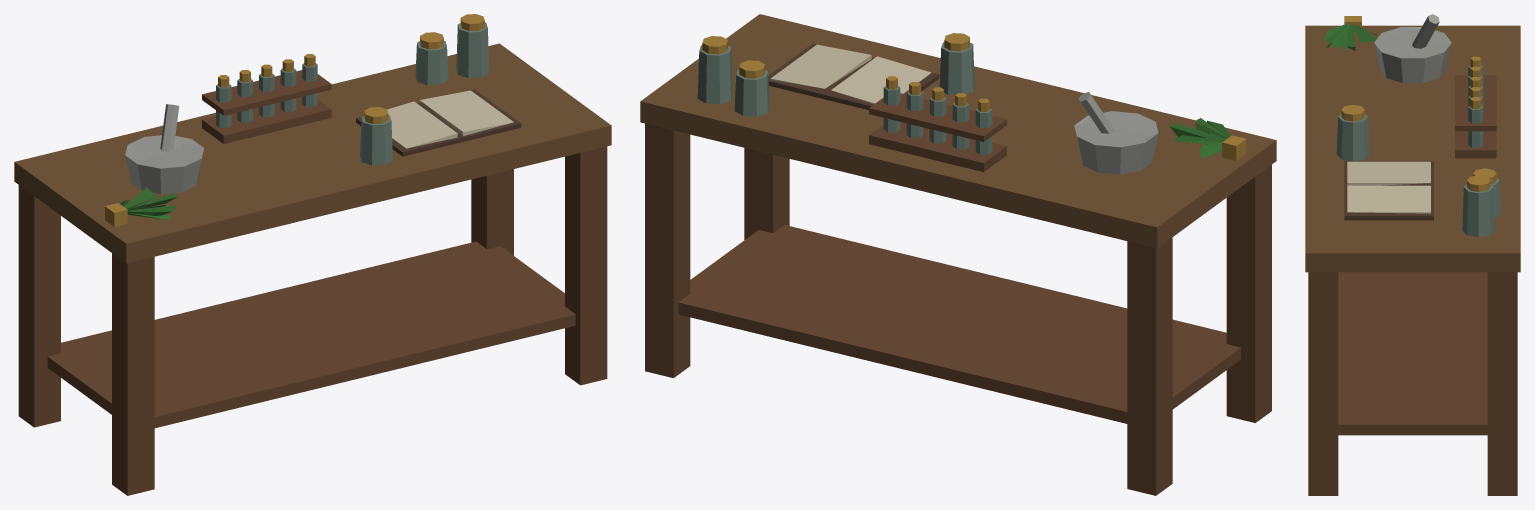
Rendered from ApothecaryBench.fbx.
3 views of the same model, side by side, from view 1: azimuth 30°, elevation 25°; view 2: azimuth 150°, elevation 25°; view 3: azimuth 270°, elevation 25° (orthographic). The views are drawn at different scales.
Visible parts, largest first — view 1: ApothecaryBench; view 2: ApothecaryBench; view 3: ApothecaryBench.
Boxes of the visible parts, x1,y1,x2,y2 form: ApothecaryBench: (14,14,611,495); ApothecaryBench: (640,14,1276,495); ApothecaryBench: (1305,14,1520,495).
Size of the model in its own units: 1.8 by 1.13 by 0.72.
